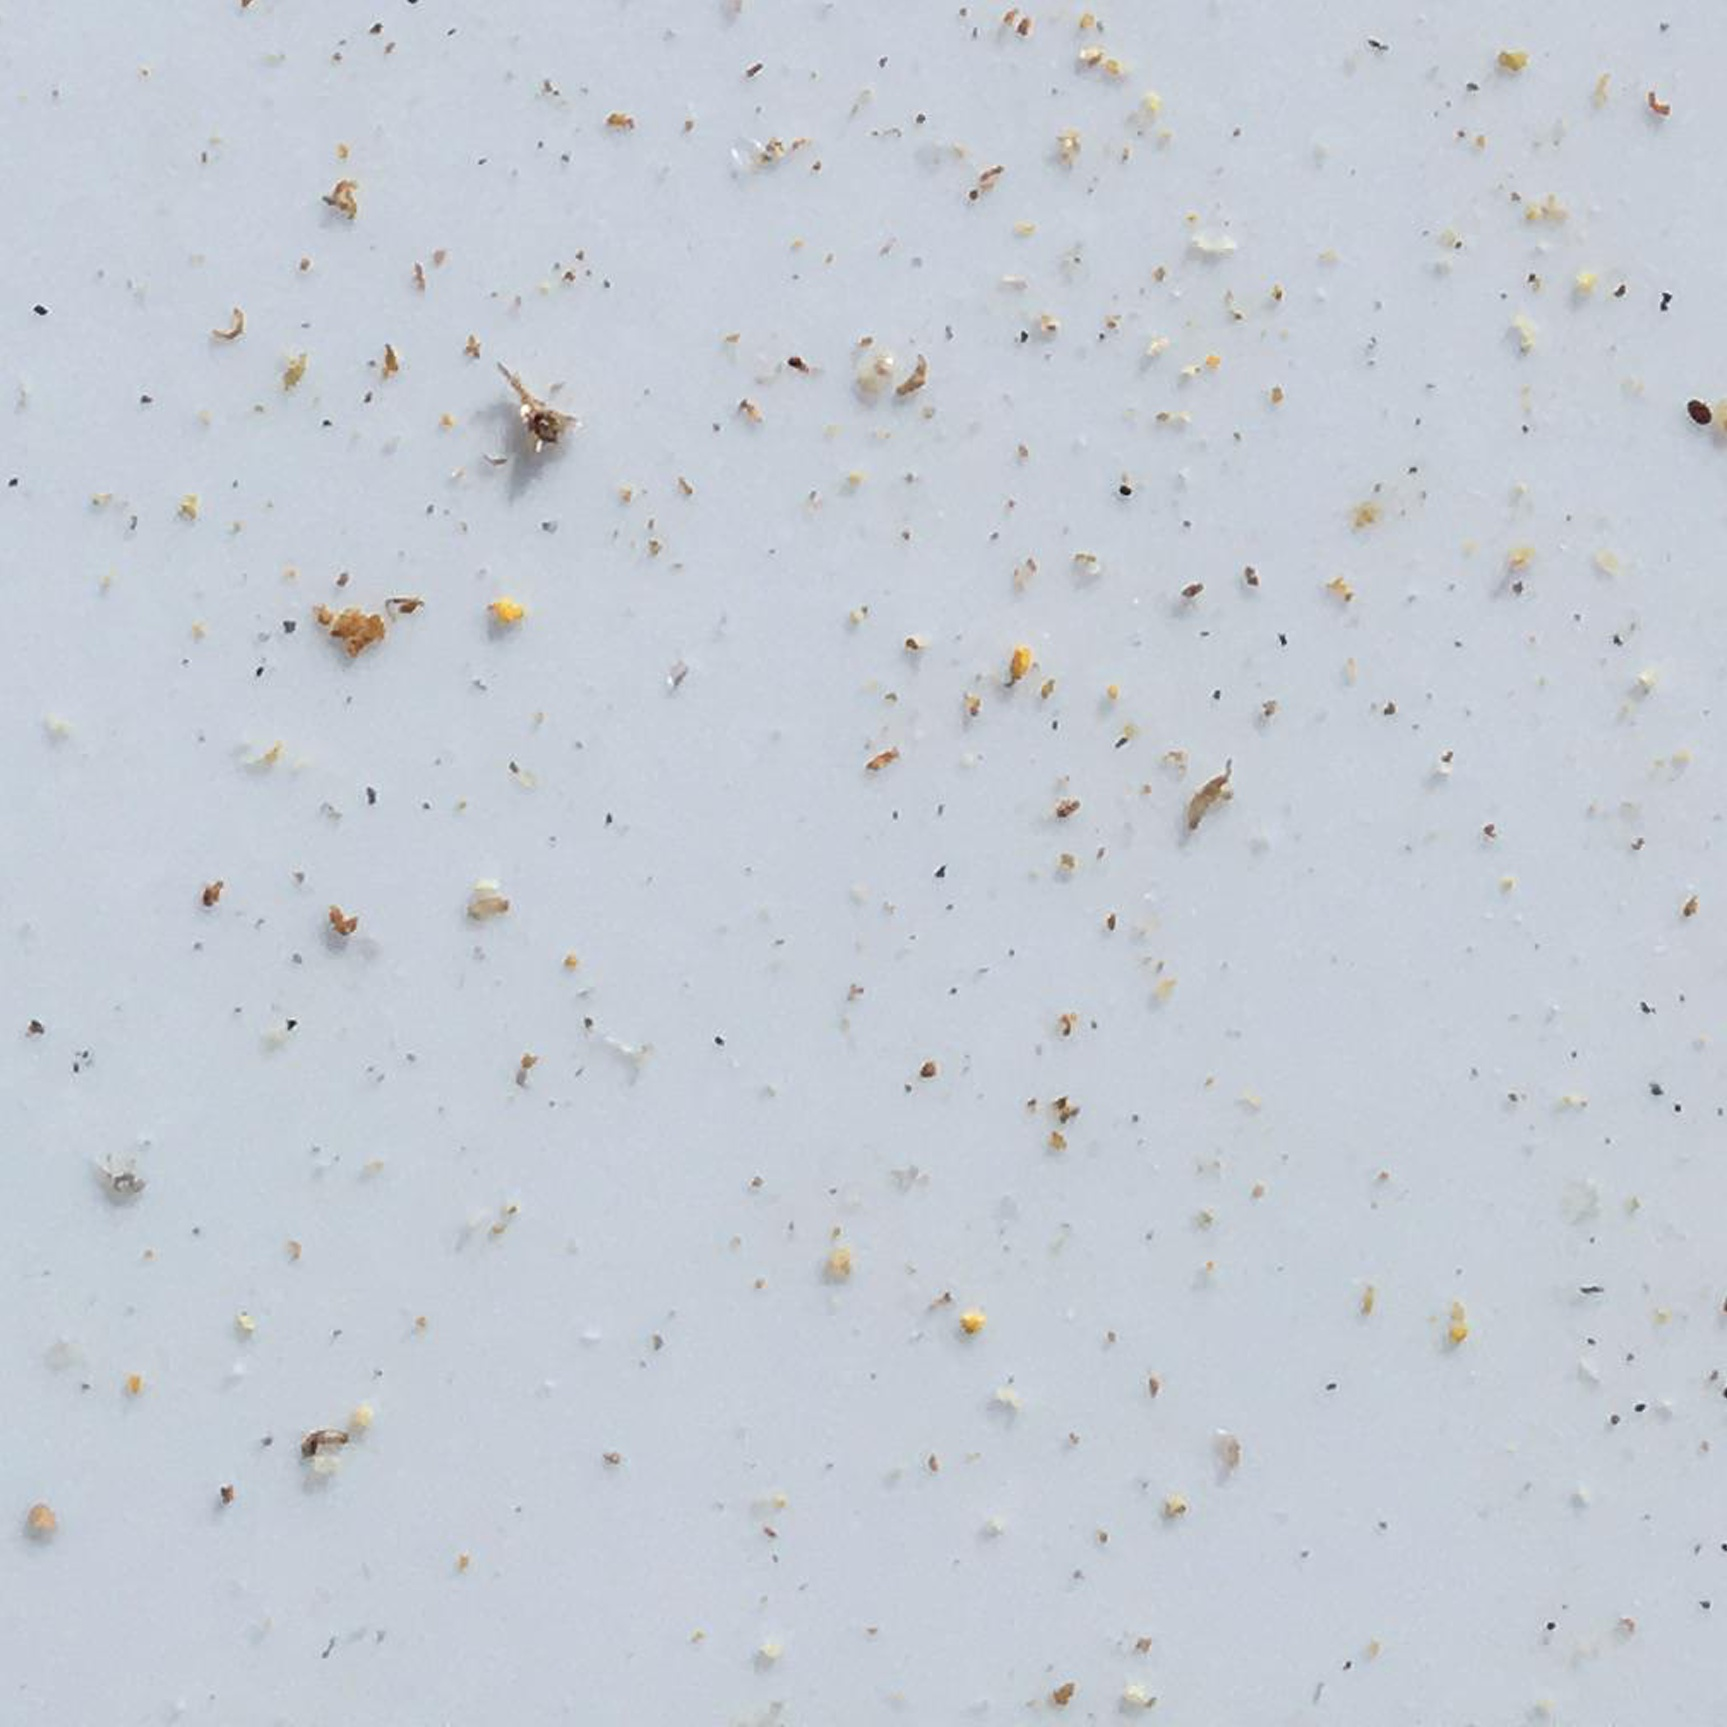Varroa: (1676, 383, 1719, 433)
